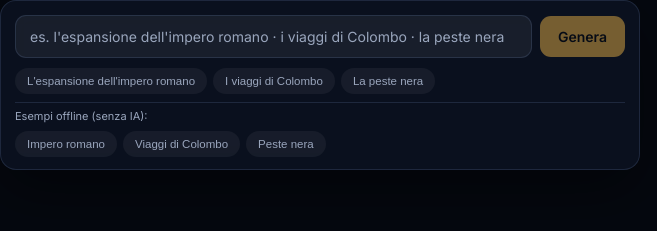
Test: Generator › click su una chip popola l'input e genera, come nel v12
Click the button "I viaggi di Colombo". click: (274, 81)
box: top-left (213, 68), bottom-right (335, 94)
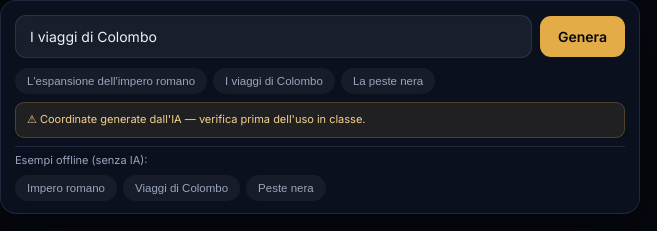
Expected: the field named "Richiesta per il generatore" holds "I viaggi di Colombo", top-left (15, 15), bottom-right (532, 58)
